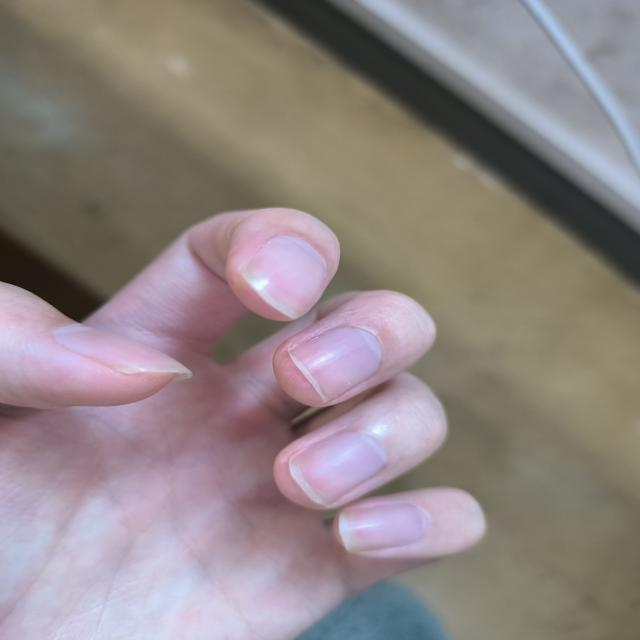Nail: (287, 327, 383, 404), (241, 236, 328, 318), (289, 431, 386, 504), (54, 325, 193, 374), (339, 502, 429, 552)
